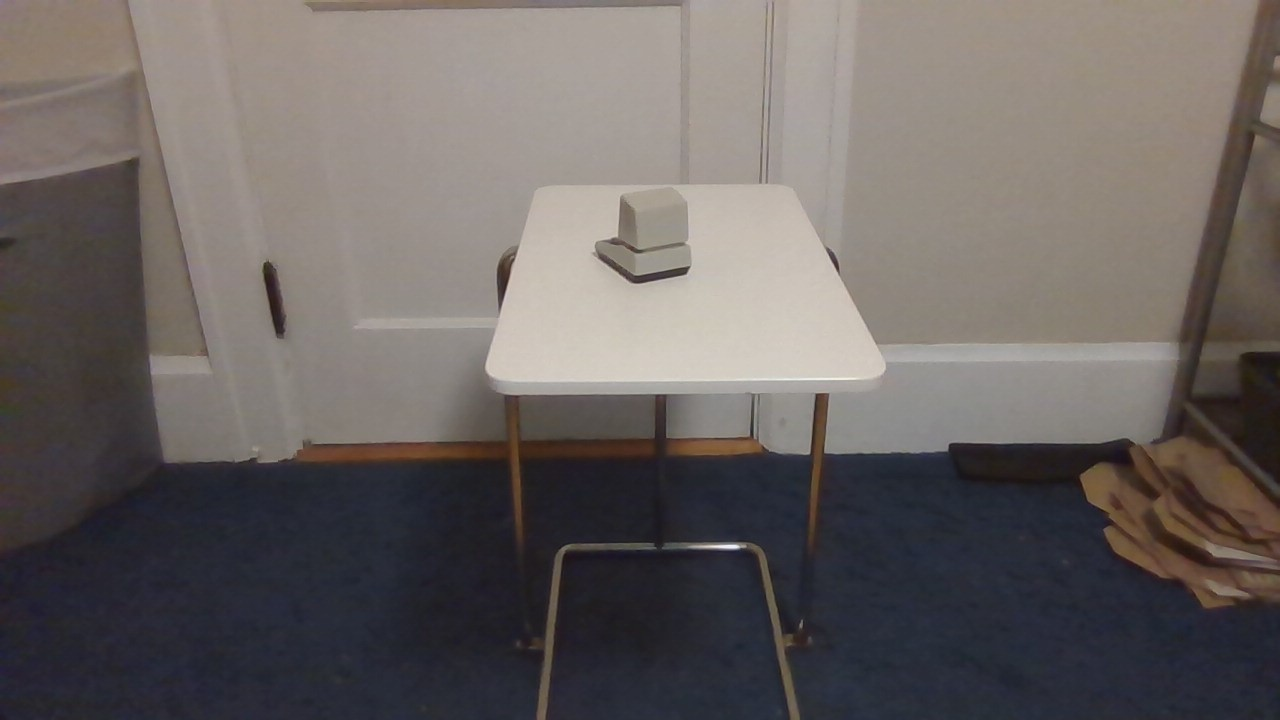Toy: (589, 182, 700, 293)
